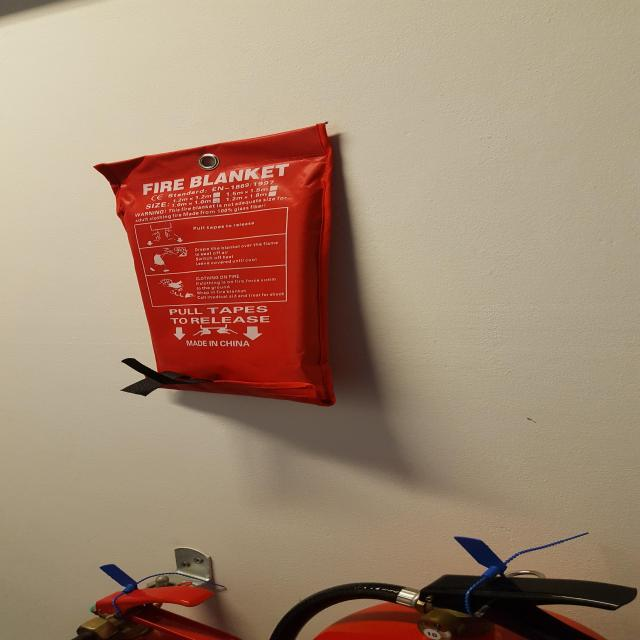fire_extinguisher: (261, 560, 640, 640), (45, 571, 251, 640)
